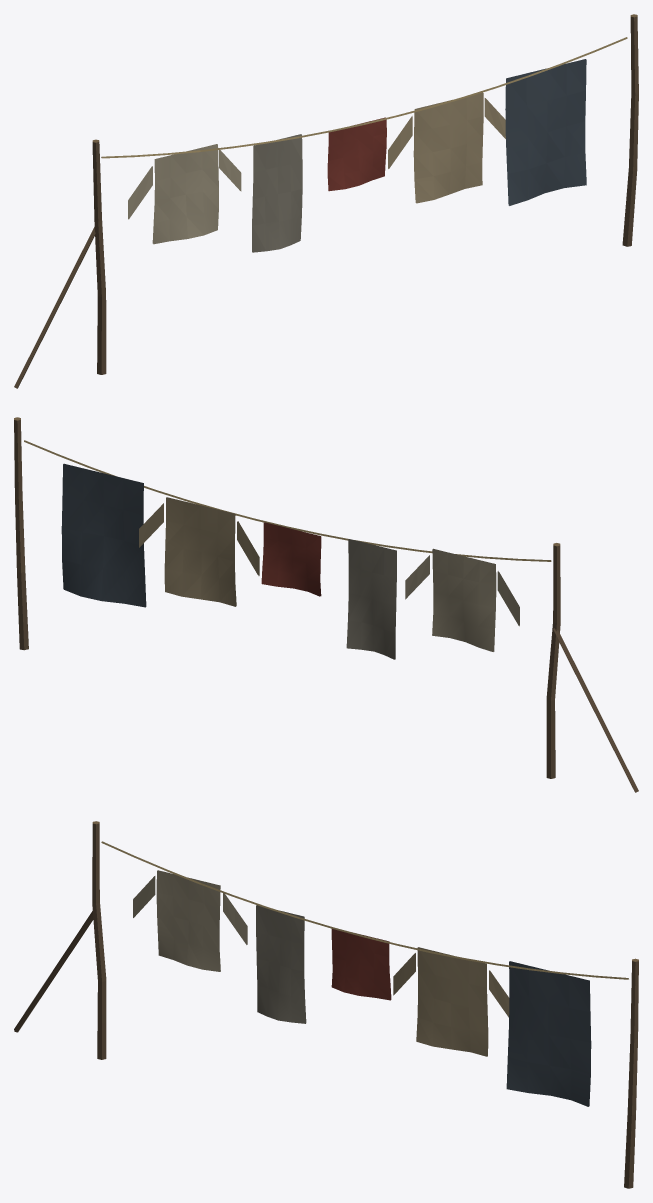
File: tendal.glb
The picture shows the model from 3 angles, top to bottom: view 1: azimuth 30°, elevation 25°; view 2: azimuth 150°, elevation 25°; view 3: azimuth 330°, elevation 25°; orthographic projection.
Visible parts, largest first — view 1: Tendal; view 2: Tendal; view 3: Tendal.
Part boxes in pixels (x1,y1,x2,y2): Tendal: [14, 14, 638, 388]; Tendal: [14, 417, 638, 792]; Tendal: [14, 821, 638, 1188].
Size of what is drawn, in the model's own units: 5.46 by 1.95 by 0.1069.
